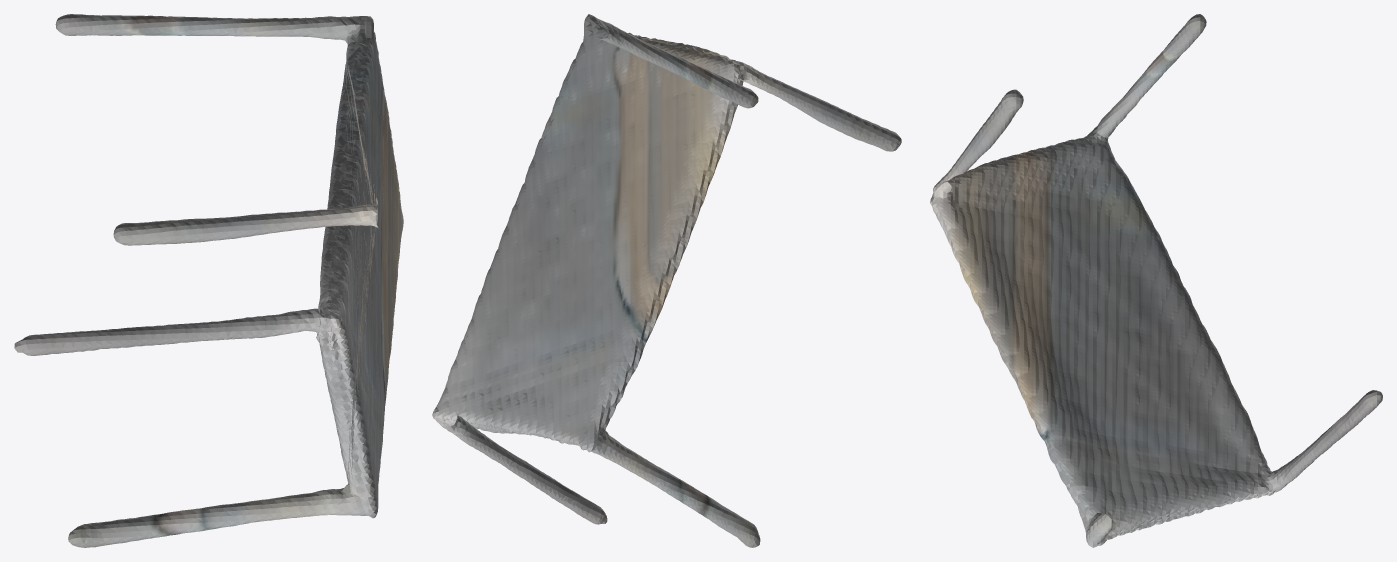
File: gen2.glb
3 renders of one model, left to right at view 1: azimuth 30°, elevation 25°; view 2: azimuth 150°, elevation 25°; view 3: azimuth 270°, elevation 25°, orthographic. The views are drawn at different scales.
Visible parts, largest first — view 1: world; view 2: world; view 3: world.
Part boxes in pixels (x1=…): world: x1=14, y1=14, x2=403, y2=547; world: x1=432, y1=14, x2=901, y2=547; world: x1=930, y1=14, x2=1382, y2=547.
Bounding box in the file's own units: 0.6521 × 0.8668 × 0.8059.
